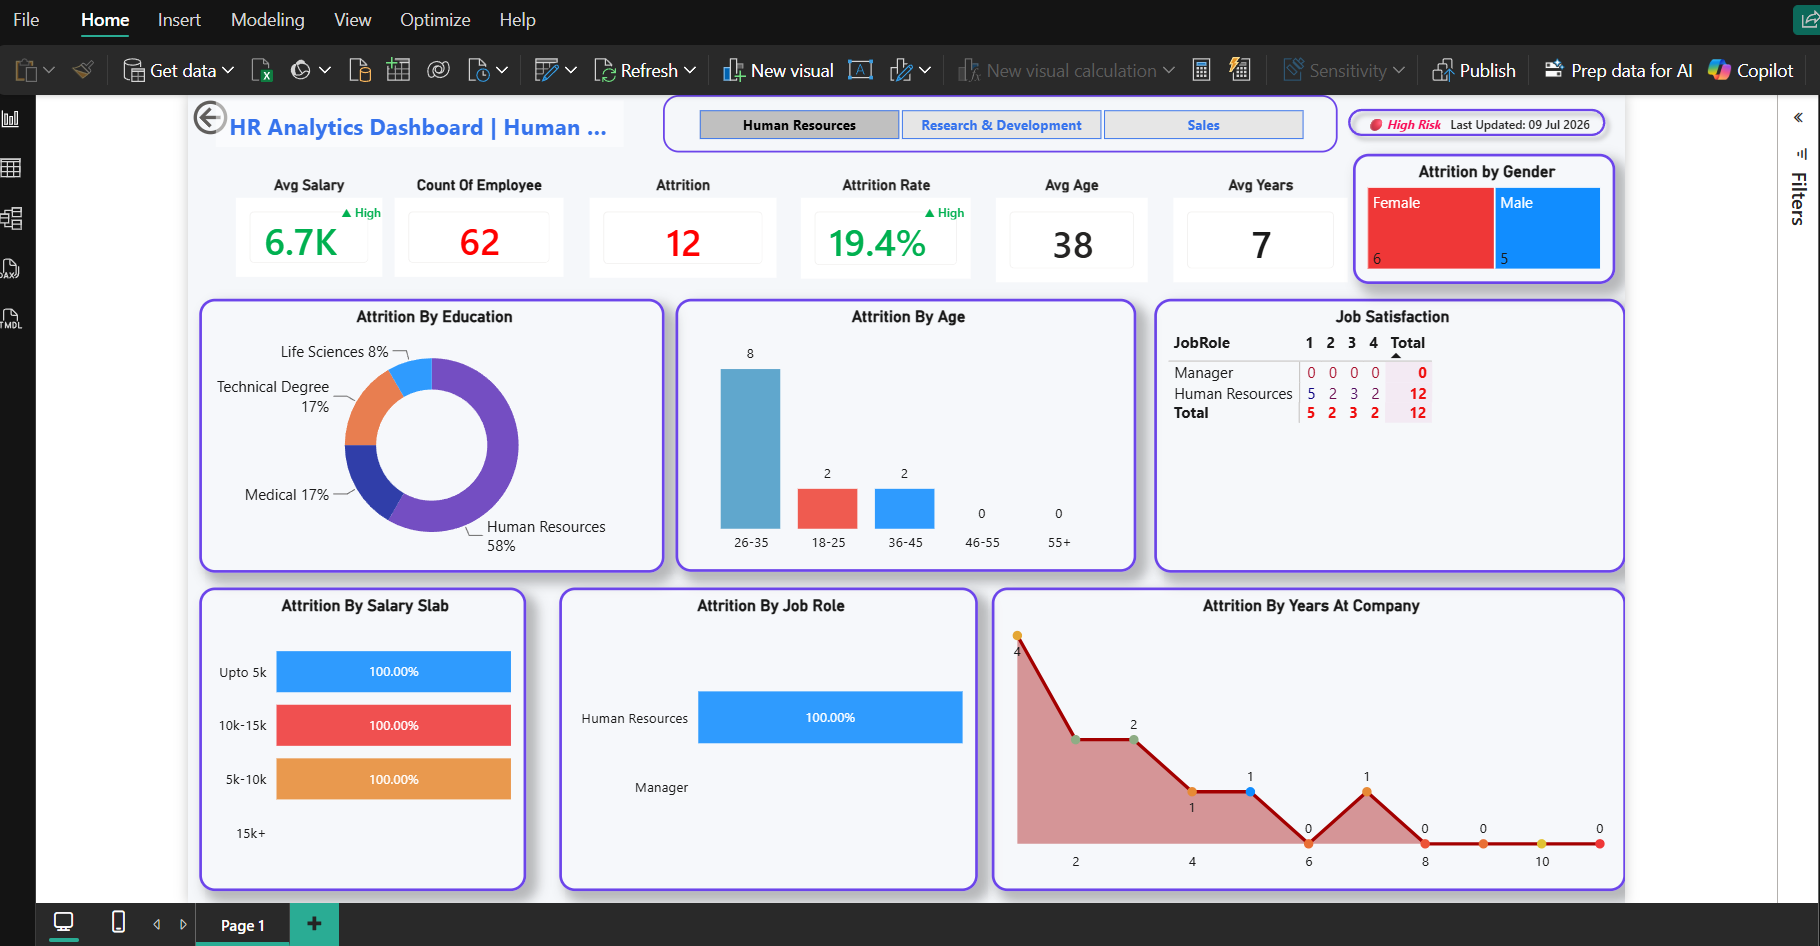

This screenshot's page, from the dashboard's own definition file:
{"tool":"powerbi","page":{"name":"Page 1","canvas":[1280,720],"ordinal":0},"visuals":[{"type":"cardVisual","title":"Count Of Employee ","fields":{"Data":["CountNonNull(HR_Analytics.EmpID)"]},"box":[179.8,61.7,209.9,108.4],"z":0},{"type":"cardVisual","title":"Attrition","fields":{"Data":["Sum(HR_Analytics.AttritionCount)"]},"box":[358.1,63.1,182.5,107],"z":1000},{"type":"cardVisual","title":"Attrition Rate ","fields":{"Data":["HR_Analytics.AttritionRate"]},"box":[521.4,63.1,203.1,107],"z":2000},{"type":"cardVisual","title":"Avg Age","fields":{"Data":["Avg(HR_Analytics.Age)"]},"box":[709.4,63.1,135.8,107],"z":3000},{"type":"cardVisual","title":"Avg Salary","fields":{"Data":["Avg(HR_Analytics.MonthlyIncome)"]},"box":[15.1,63.1,175.6,107],"z":4000},{"type":"cardVisual","title":"Avg Years ","fields":{"Data":["Avg(HR_Analytics.YearsAtCompany)"]},"box":[832.9,63.1,199,107],"z":5000},{"type":"donutChart","title":"Attrition By Education","fields":{"Category":["HR_Analytics.EducationField"],"Y":["Sum(HR_Analytics.AttritionCount)"]},"box":[9.6,181.1,414.4,244.3],"z":6000},{"type":"pivotTable","title":"Job Satisfaction ","fields":{"Rows":["HR_Analytics.JobRole"],"Values":["Sum(HR_Analytics.AttritionCount)"],"Columns":["HR_Analytics.JobSatisfaction"]},"box":[860.4,181.1,419.9,244.3],"z":7000},{"type":"columnChart","title":"Attrition By Age","fields":{"Category":["HR_Analytics.AgeGroup"],"Y":["Sum(HR_Analytics.AttritionCount)"]},"box":[434.9,181.4,410.5,244.2],"z":8000},{"type":"hundredPercentStackedBarChart","title":"Attrition By Salary Slab","fields":{"Category":["HR_Analytics.SalarySlab"],"Y":["Sum(HR_Analytics.AttritionCount)"]},"box":[9.6,439.1,290.9,270.3],"z":9000},{"type":"hundredPercentStackedBarChart","title":"Attrition By Job Role","fields":{"Category":["HR_Analytics.JobRole"],"Y":["Sum(HR_Analytics.AttritionCount)"]},"box":[314.2,439.1,373.2,270.3],"z":10000},{"type":"areaChart","title":"Attrition By Years At Company","fields":{"Category":["HR_Analytics.YearsAtCompany"],"Y":["Sum(HR_Analytics.AttritionCount)"]},"box":[724.5,439.1,555.7,270.3],"z":11000},{"type":"treemap","title":"Attrition by Age","fields":{"Group":["HR_Analytics.Gender"],"Values":["Sum(HR_Analytics.AttritionCount)"]},"box":[1082.7,0,188,170.2],"z":12000},{"type":"slicer","fields":{"Values":["HR_Analytics.Department"]},"box":[399.3,0,671,48],"z":13000},{"type":"textbox","box":[9.6,0,380.1,48],"z":14000}]}

Visuals, with their boxes on the page's 1280x720 design canvas (x1, y1, x2, y2). These are canvas units, not pixel positions in the 1820x946 screenshot, which may show the page scaled, cropped or inside an application window:
"Count Of Employee " cardVisual: [x1=180, y1=62, x2=390, y2=170]
"Attrition" cardVisual: [x1=358, y1=63, x2=541, y2=170]
"Attrition Rate " cardVisual: [x1=521, y1=63, x2=724, y2=170]
"Avg Age" cardVisual: [x1=709, y1=63, x2=845, y2=170]
"Avg Salary" cardVisual: [x1=15, y1=63, x2=191, y2=170]
"Avg Years " cardVisual: [x1=833, y1=63, x2=1032, y2=170]
"Attrition By Education" donutChart: [x1=10, y1=181, x2=424, y2=425]
"Job Satisfaction " pivotTable: [x1=860, y1=181, x2=1280, y2=425]
"Attrition By Age" columnChart: [x1=435, y1=181, x2=845, y2=426]
"Attrition By Salary Slab" hundredPercentStackedBarChart: [x1=10, y1=439, x2=300, y2=709]
"Attrition By Job Role" hundredPercentStackedBarChart: [x1=314, y1=439, x2=687, y2=709]
"Attrition By Years At Company" areaChart: [x1=724, y1=439, x2=1280, y2=709]
"Attrition by Age" treemap: [x1=1083, y1=0, x2=1271, y2=170]
slicer - HR_Analytics.Department: [x1=399, y1=0, x2=1070, y2=48]
textbox: [x1=10, y1=0, x2=390, y2=48]
